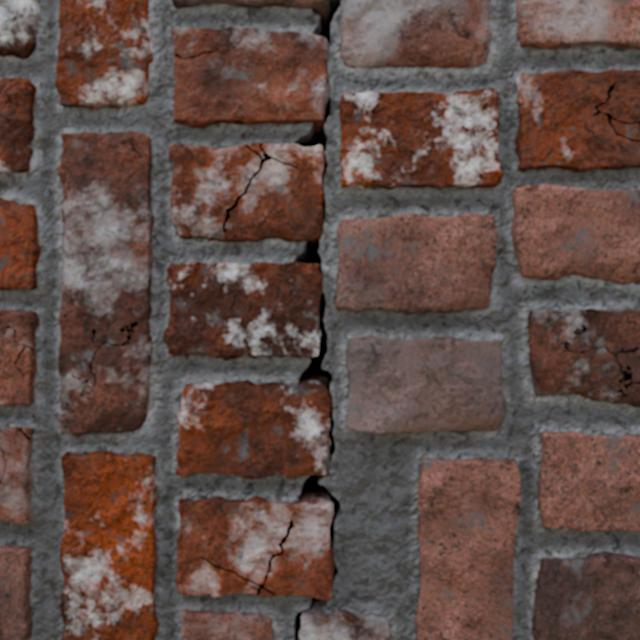crack: (163, 0, 491, 639), (58, 131, 154, 435), (415, 457, 520, 639), (60, 451, 158, 639), (339, 88, 502, 189), (335, 213, 497, 313), (346, 336, 505, 433), (511, 184, 639, 284), (515, 69, 639, 171), (528, 309, 639, 407), (55, 0, 153, 109), (537, 431, 639, 531), (532, 551, 639, 639), (516, 0, 639, 49), (0, 198, 40, 289), (0, 310, 38, 405), (0, 77, 36, 173), (0, 427, 34, 524), (0, 545, 32, 639), (181, 609, 272, 639), (0, 0, 40, 58)
